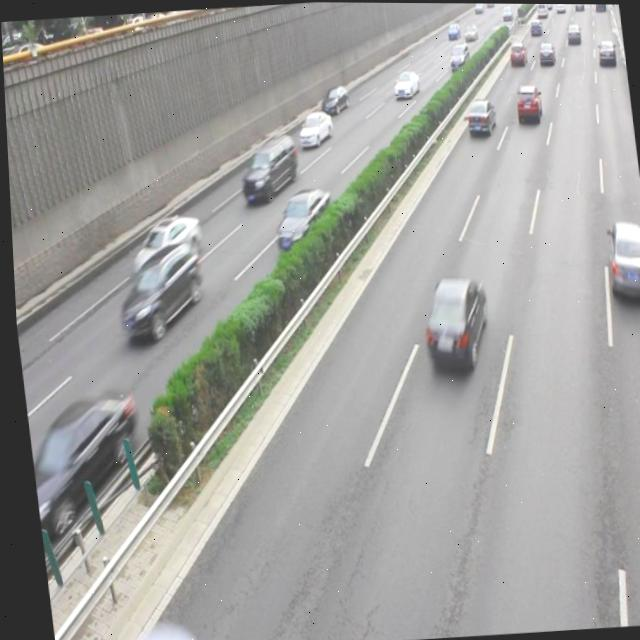car: (27, 386, 142, 522), (108, 238, 204, 339), (413, 272, 490, 373), (124, 211, 202, 280), (267, 185, 333, 254), (599, 217, 640, 303), (293, 108, 332, 149), (462, 97, 494, 137), (511, 81, 540, 124), (316, 83, 349, 116)
truck: (232, 130, 300, 205)
